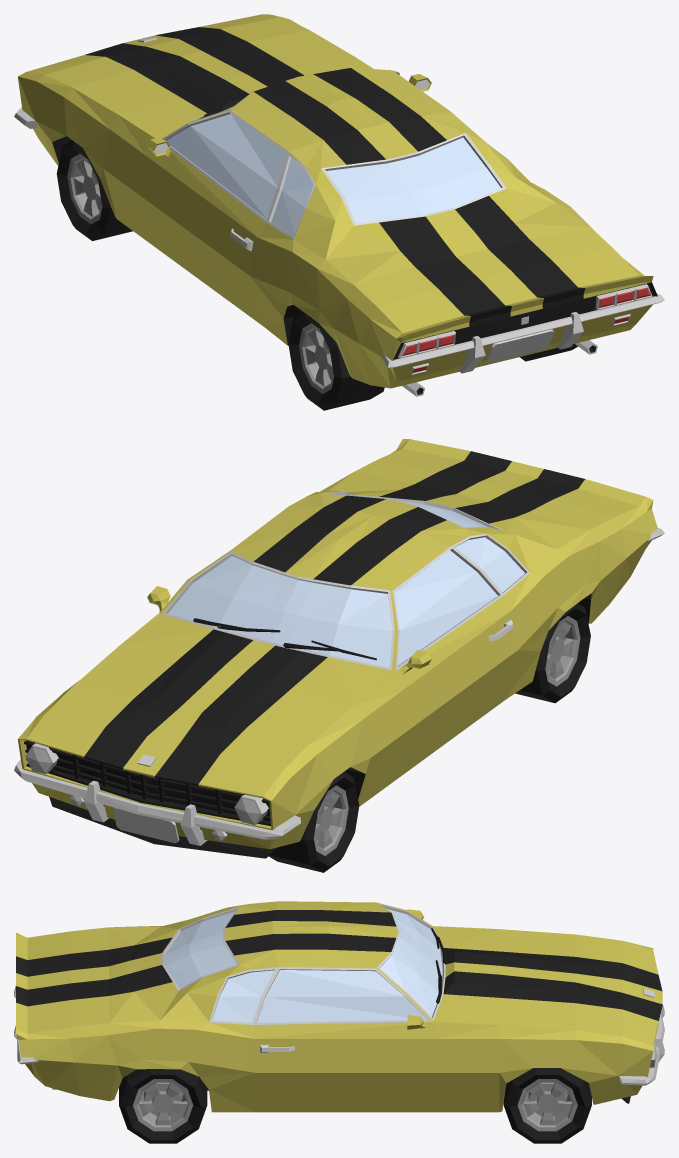
Rendered from Car_muscle_01_yellow_SkF.fbx.
3 views of the same model, one above another, from view 1: azimuth 30°, elevation 25°; view 2: azimuth 150°, elevation 25°; view 3: azimuth 270°, elevation 25° (orthographic). The views are drawn at different scales.
Parts seen in each view (by area): view 1: Muscle_car_01, Window, rear_wheel_left, front_wheel_left; view 2: Muscle_car_01, Window, front_wheel_left, rear_wheel_left; view 3: Muscle_car_01, Window, rear_wheel_right, front_wheel_right.
Boxes of the visible parts, x1,y1,x2,y2 form: Muscle_car_01: (14, 14, 664, 396); Window: (166, 106, 500, 236); rear_wheel_left: (288, 311, 384, 410); front_wheel_left: (56, 140, 132, 240); Muscle_car_01: (14, 439, 664, 858); Window: (168, 495, 524, 667); front_wheel_left: (268, 772, 359, 872); rear_wheel_left: (515, 603, 590, 703); Muscle_car_01: (14, 901, 664, 1112); Window: (164, 909, 442, 1022); rear_wheel_right: (119, 1069, 207, 1143); front_wheel_right: (503, 1068, 591, 1143).
Bounding box in the file's own units: 200 × 138 × 487.
Materials: 1 (1 with a texture image).
